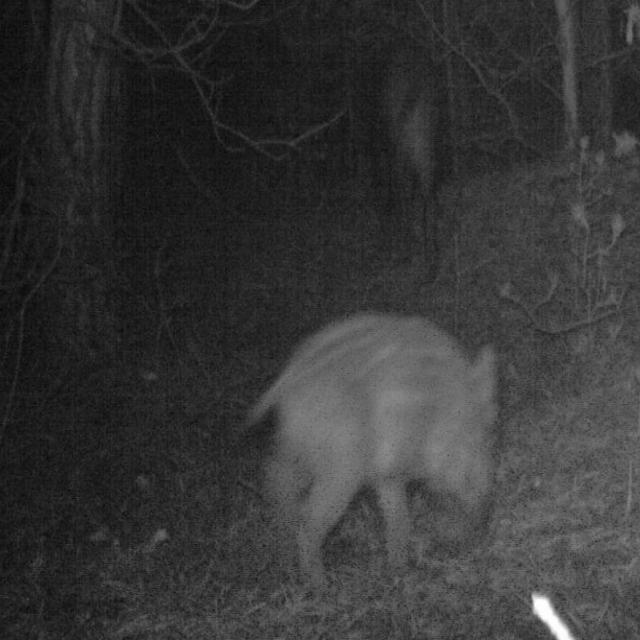pig: (236, 283, 532, 600)
